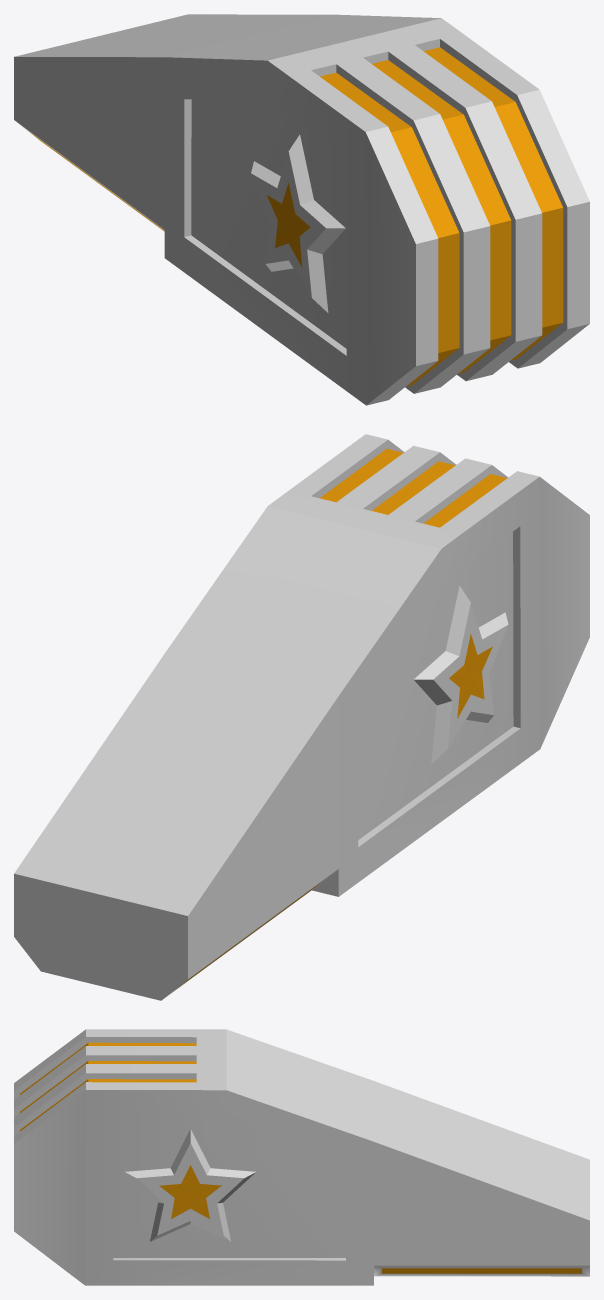
File: obj_dekotora_pinballflipper.fbx
3 renders of one model, top to bottom at view 1: azimuth 30°, elevation 25°; view 2: azimuth 150°, elevation 25°; view 3: azimuth 270°, elevation 25°, orthographic. The views are drawn at different scales.
Visible parts, largest first — view 1: Cylinder.042, Cylinder.045; view 2: Cylinder.042, Cylinder.045; view 3: Cylinder.042, Cylinder.045.
Part boxes in pixels (box(x1,y1,x2,y2)): Cylinder.042: box(14, 14, 589, 405); Cylinder.045: box(251, 134, 345, 312); Cylinder.042: box(14, 434, 589, 1000); Cylinder.045: box(413, 585, 508, 764); Cylinder.042: box(14, 1029, 589, 1285); Cylinder.045: box(125, 1129, 255, 1241).
Bounding box in the file's own units: 2.09 × 3 × 8.
